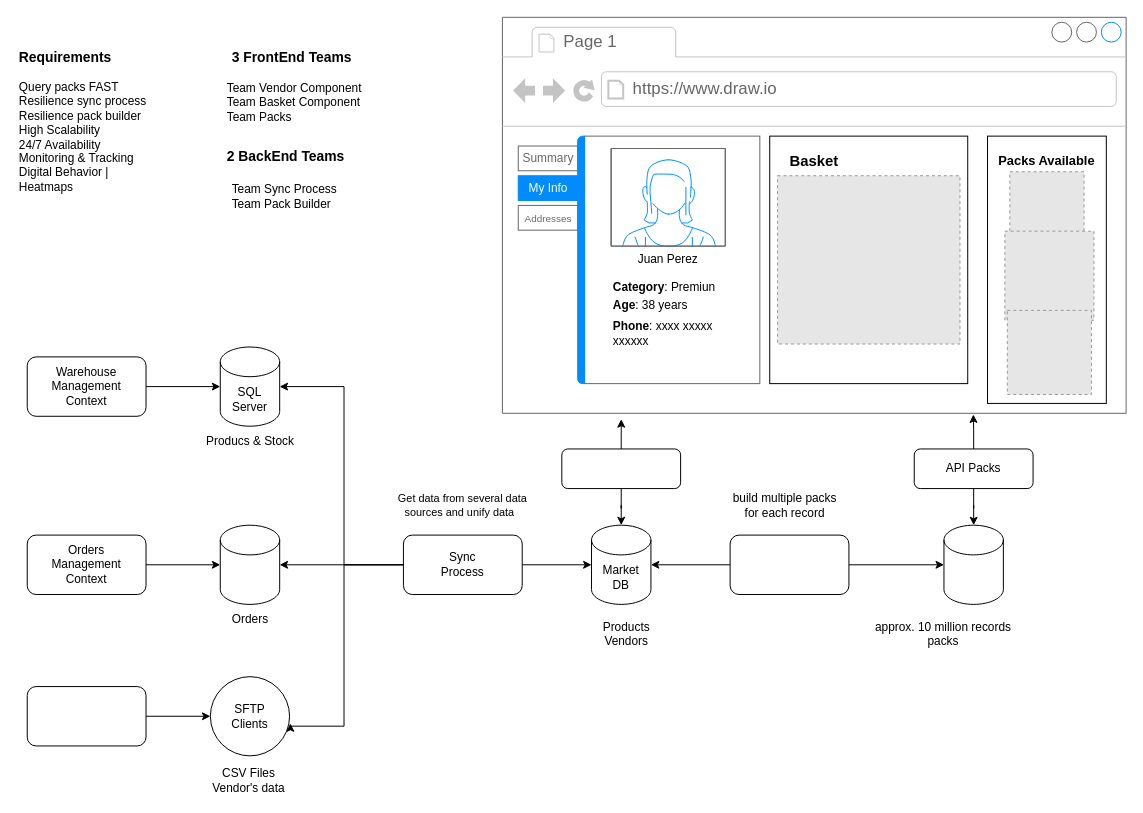
Some shapes in this 1143 by 813 pixel diagram are drawn without their labels. Grey dashed boxes stand in for pictures. The box of each missing label's shape, as (x1, y1, x2, y2) in pixels:
API Market: (561, 448, 681, 489)
MongoDB: (219, 524, 280, 604)
Pack Builder: (729, 534, 849, 594)
Packs DB: (943, 524, 1003, 604)
Vendors Context: (26, 686, 146, 746)
